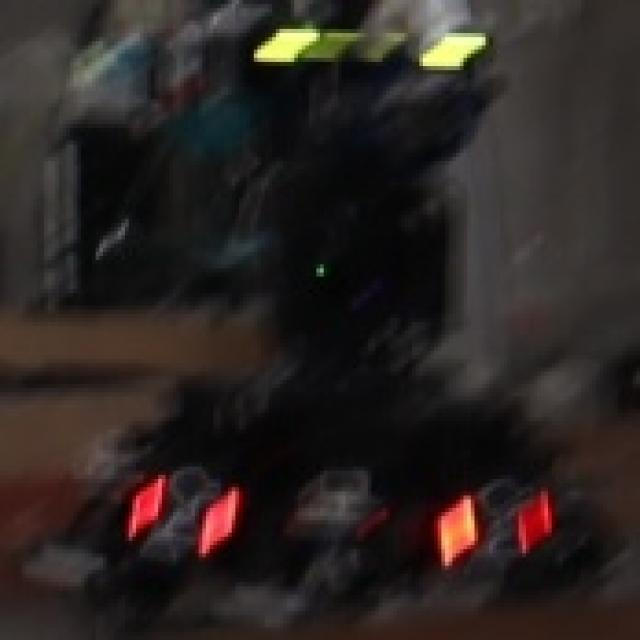Rs: (434, 467, 555, 582), (125, 458, 246, 566)
